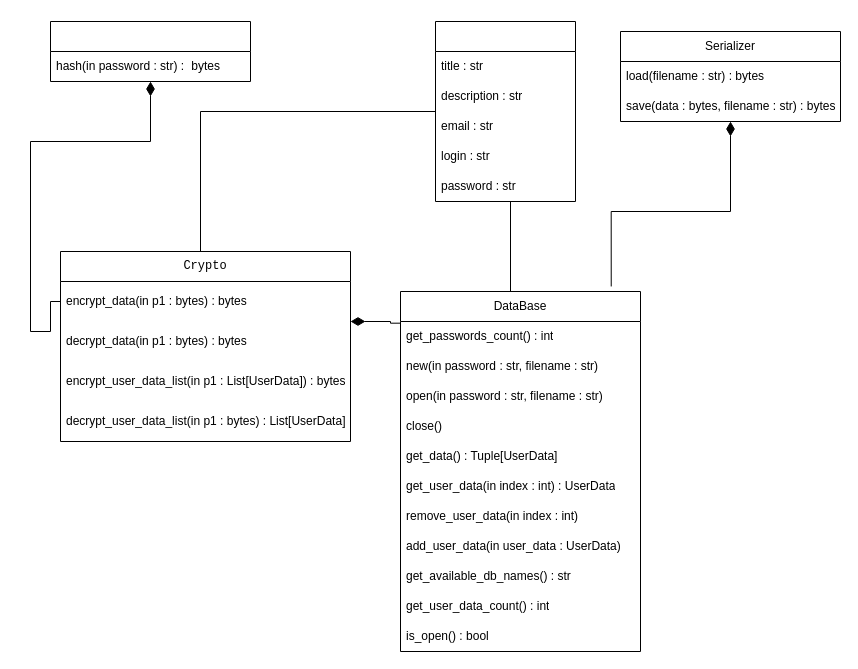
The diagram is 858 pixels wide and 669 high, and some of its shapes have lost their labels. Each missing label, with the box of its shape:
CryptoHasher: (50, 20, 250, 82)
UserData: (434, 20, 576, 202)
